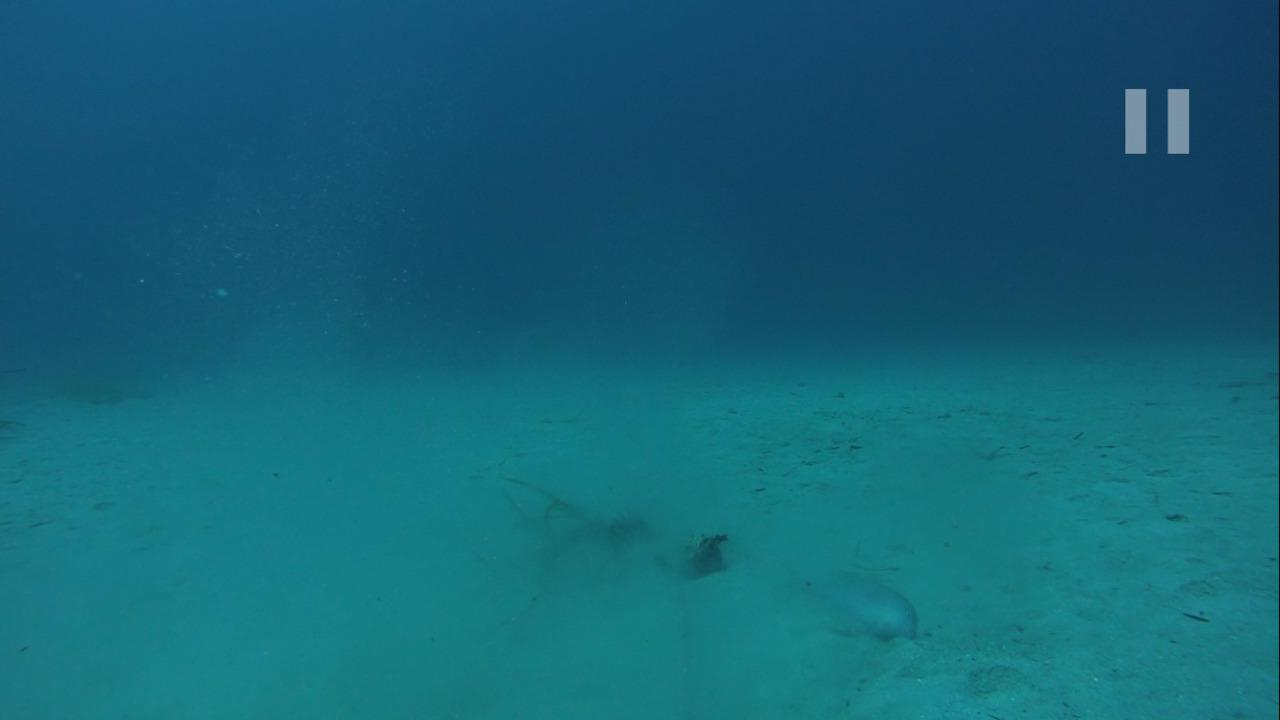raor: (777, 561, 920, 648)
